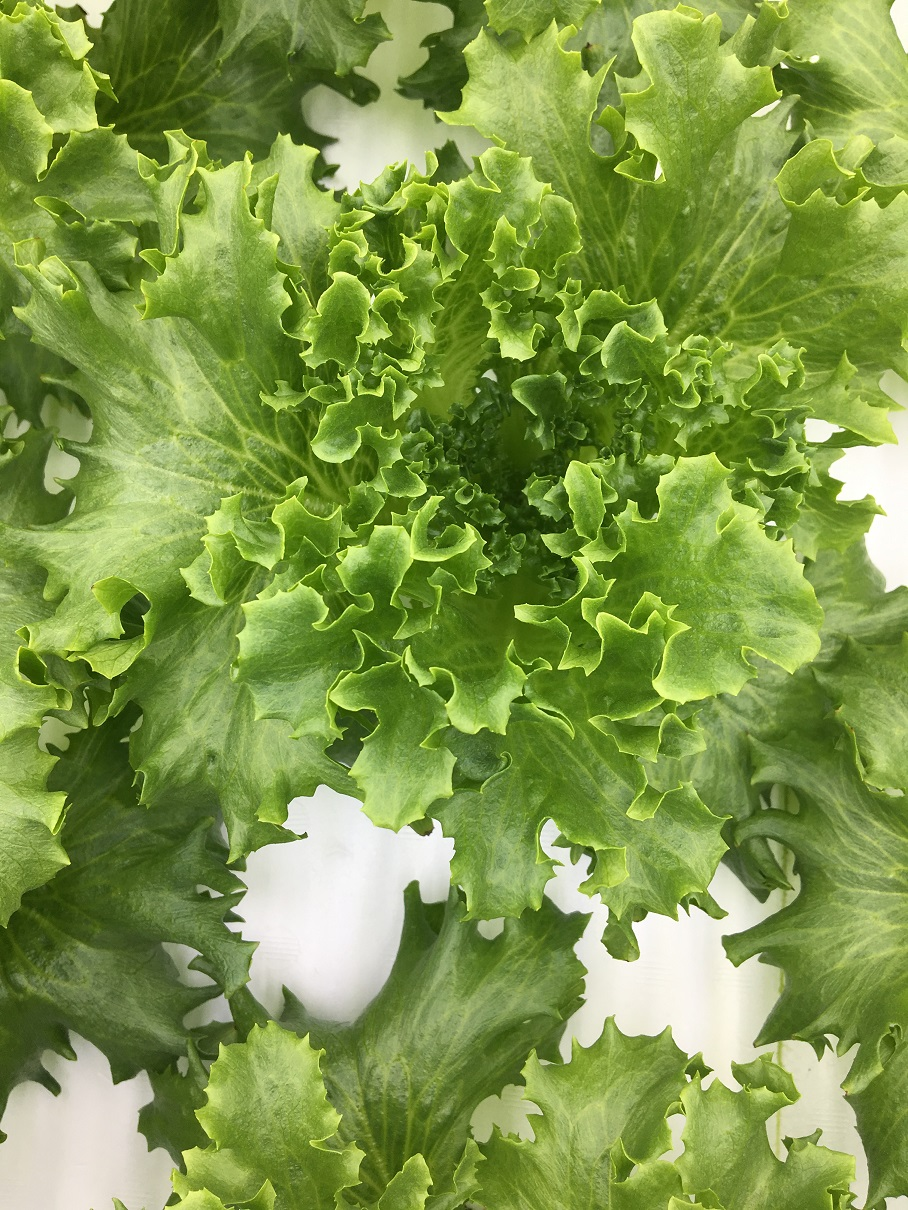tipburn: (418, 823, 440, 849), (70, 2, 96, 23), (578, 35, 600, 55), (83, 579, 102, 597), (843, 719, 862, 737)
